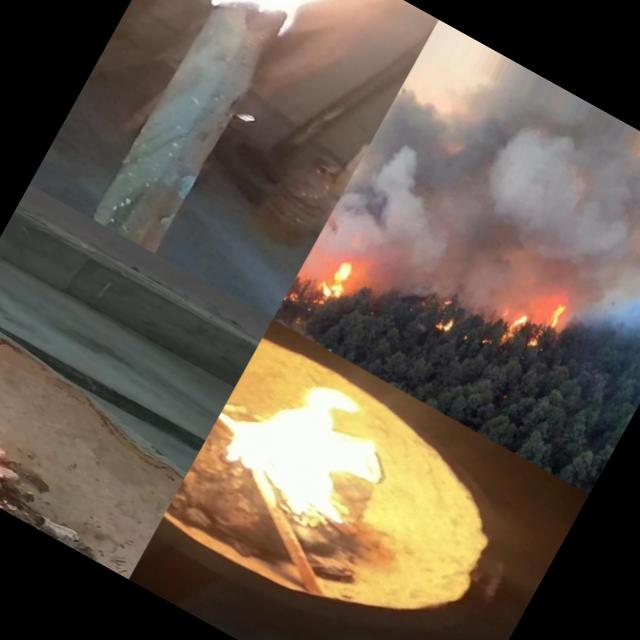fire: (200, 330, 438, 559), (180, 0, 418, 80), (0, 345, 65, 510), (315, 250, 362, 306), (540, 291, 576, 338), (498, 304, 536, 347), (282, 274, 314, 312), (435, 300, 466, 338)
smoke: (336, 19, 640, 319), (562, 136, 640, 350)
